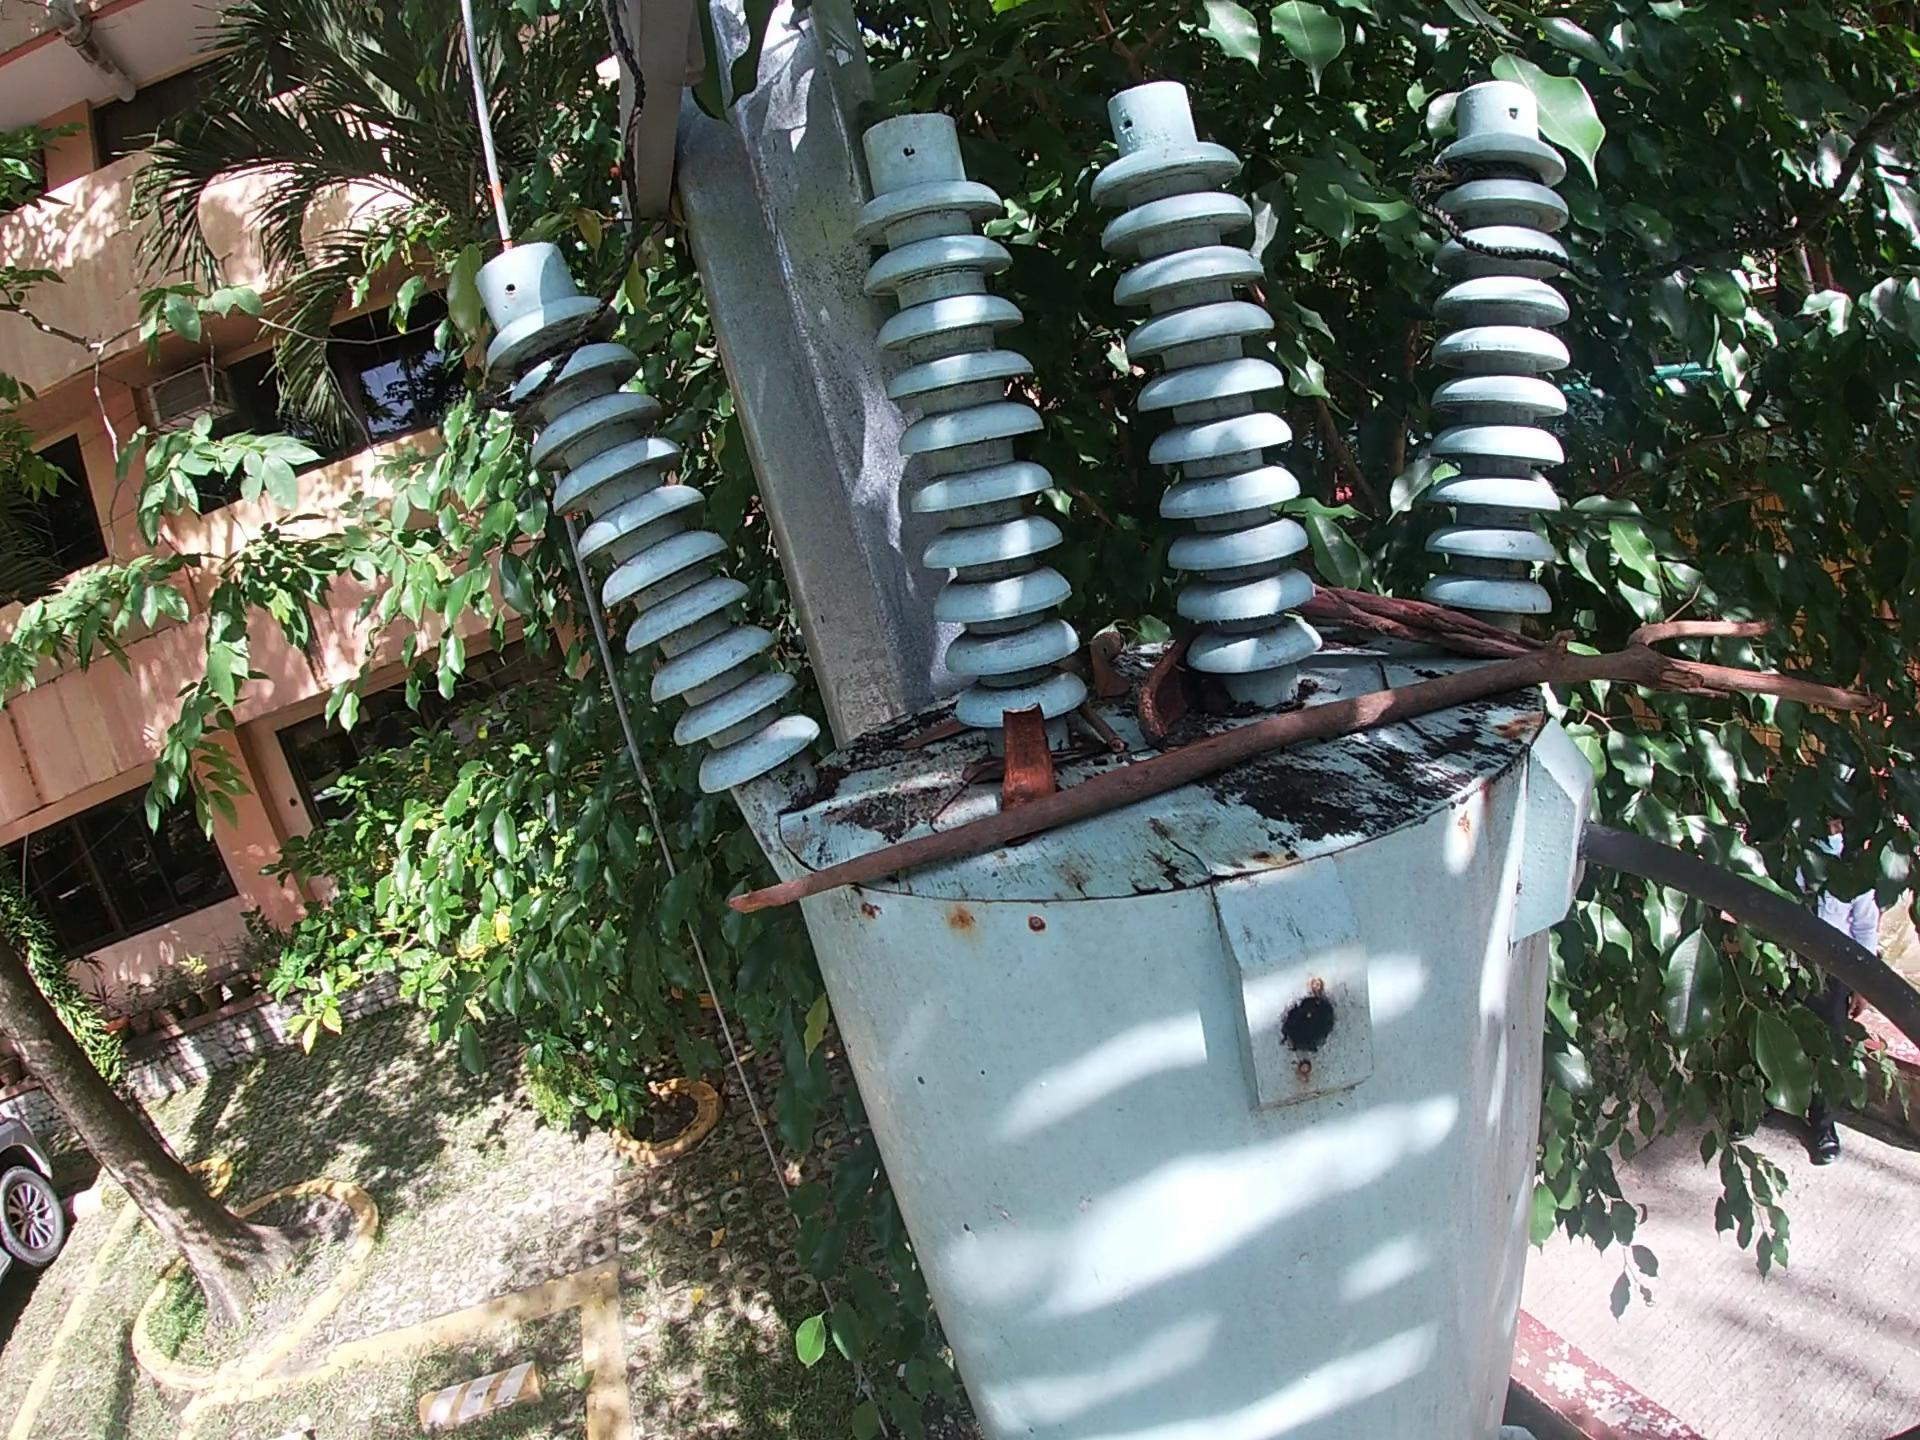leaf: (889, 706, 983, 756), (1089, 647, 1135, 703)
mahogany fruit: (1134, 629, 1205, 750), (993, 700, 1057, 815)
tree branch: (717, 613, 1893, 932), (1296, 587, 1681, 691), (1054, 629, 1128, 687)
